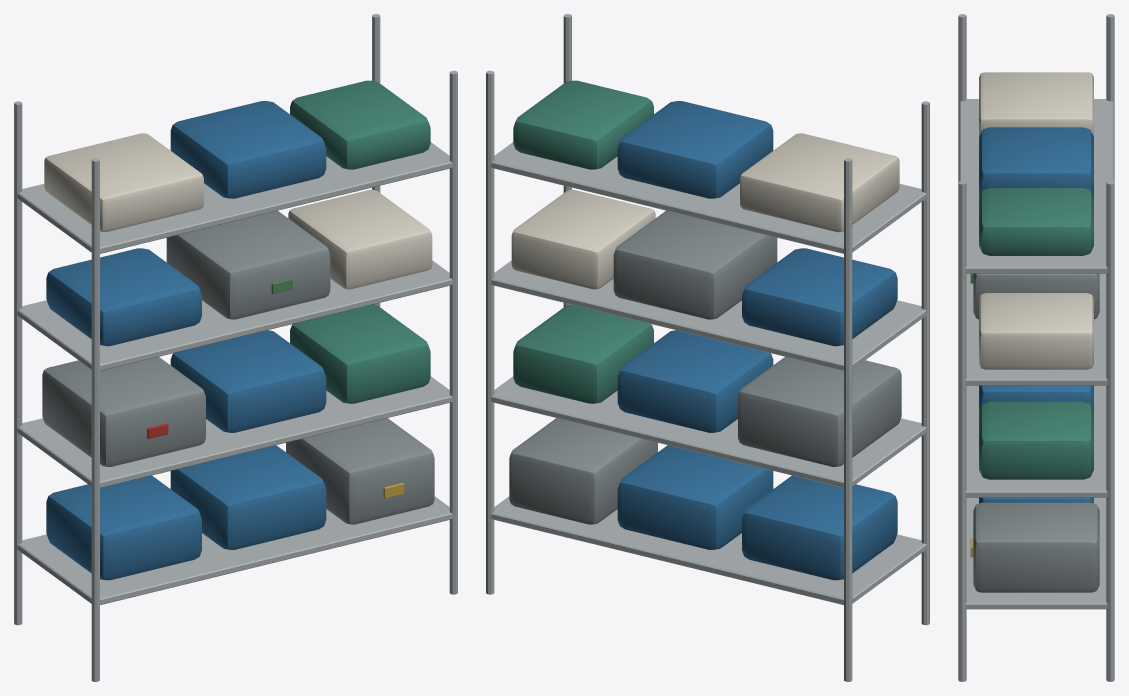
File: sc-sterile-rack.glb
The picture shows the model from 3 angles, left to right: view 1: azimuth 30°, elevation 25°; view 2: azimuth 150°, elevation 25°; view 3: azimuth 270°, elevation 25°; orthographic projection. The views are drawn at different scales.
Visible parts, largest first — view 1: sc-sterile-rack; view 2: sc-sterile-rack; view 3: sc-sterile-rack.
Part boxes in pixels (box(x1,y1,x2,y2)): sc-sterile-rack: box(14, 14, 457, 681); sc-sterile-rack: box(486, 14, 929, 681); sc-sterile-rack: box(958, 14, 1114, 681).
Size of the model in its own units: 1.47 by 2 by 0.57.
